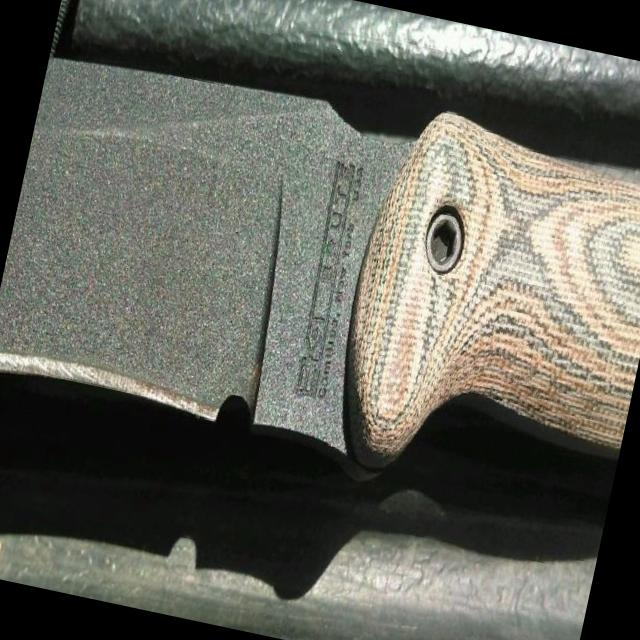Knife: (0, 58, 640, 466)
